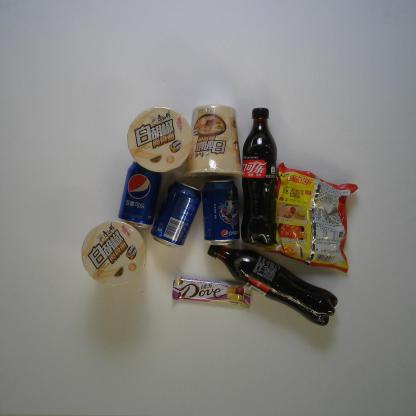Chocolate: (172, 274, 252, 311)
Drink: (206, 243, 338, 327), (240, 106, 279, 248), (150, 179, 202, 249), (117, 160, 163, 230), (201, 177, 241, 246)
Instant Noodles: (263, 161, 359, 275), (182, 103, 245, 181), (126, 106, 193, 173), (80, 219, 147, 286)
